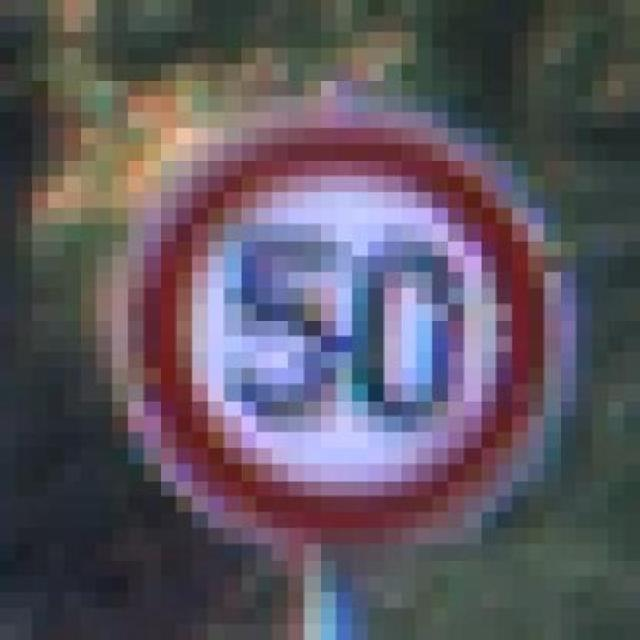forb_speed_over_50: (146, 122, 546, 529)
